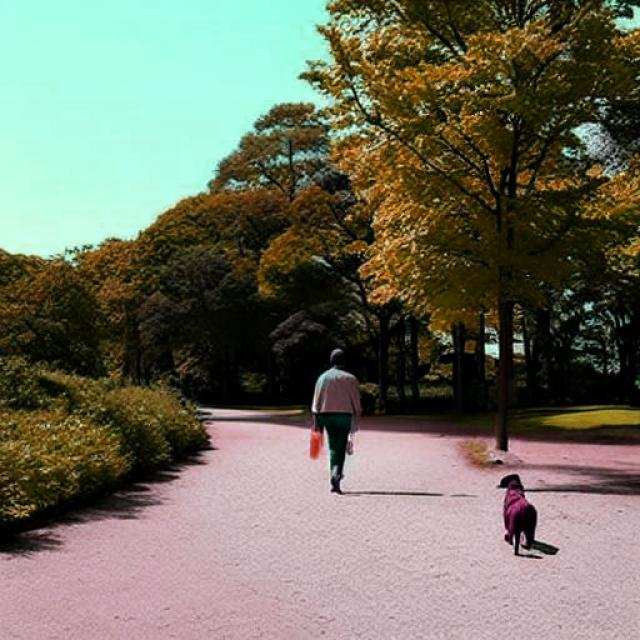Unleashed_Dog: (326, 414, 536, 556)
